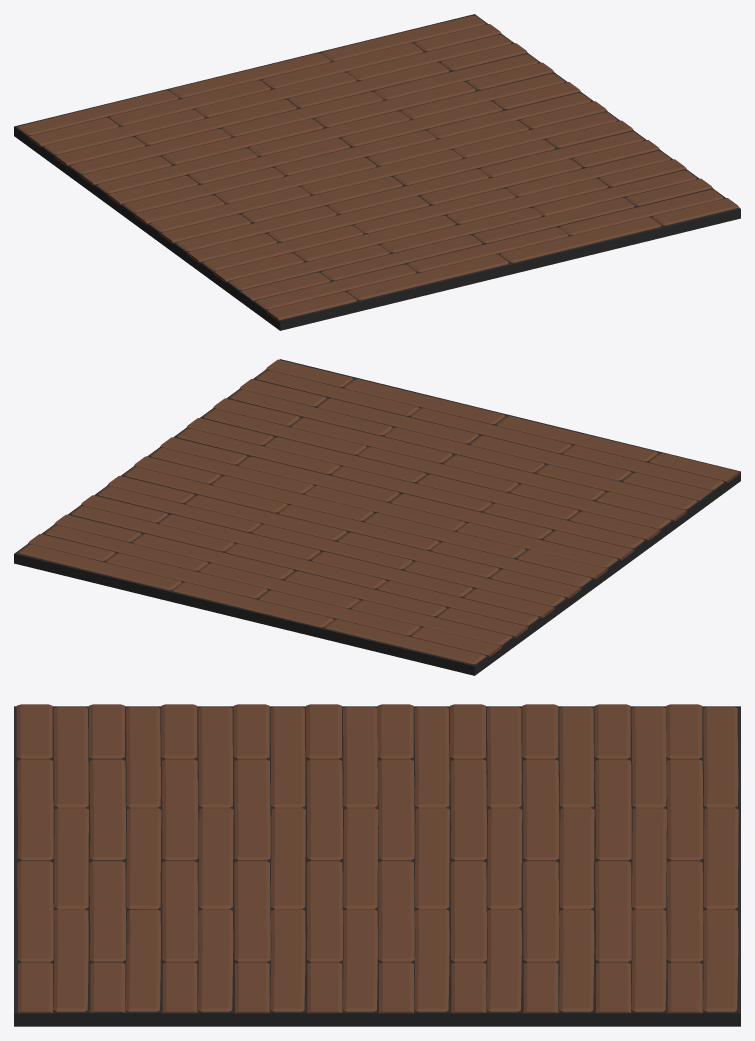
Rendered from WoodenGround.fbx.
3 views of the same model, one above another, from view 1: azimuth 30°, elevation 25°; view 2: azimuth 150°, elevation 25°; view 3: azimuth 270°, elevation 25° (orthographic). The views are drawn at different scales.
Visible parts, largest first — view 1: WoodenGround; view 2: WoodenGround; view 3: WoodenGround.
Boxes of the visible parts, left/top/right/bottom form: WoodenGround: left=14, top=14, right=740, bottom=330; WoodenGround: left=14, top=359, right=740, bottom=675; WoodenGround: left=14, top=704, right=740, bottom=1026.
Bounding box in the file's own units: 505 × 11.47 × 505.
Materials: 1 (1 with a texture image).
